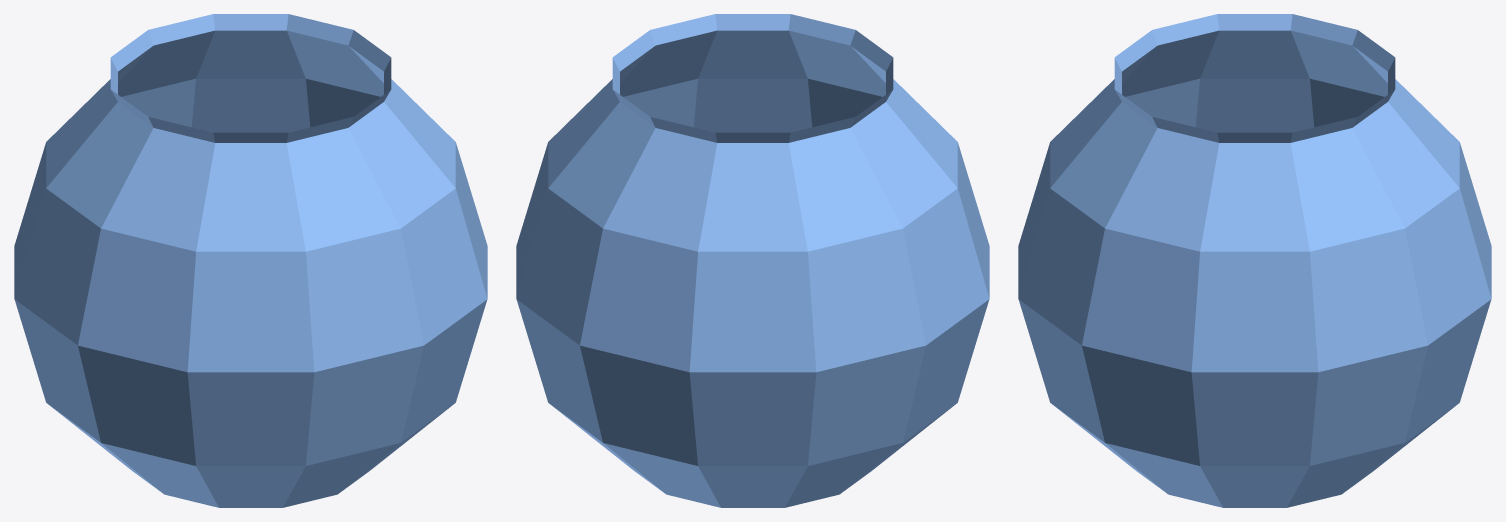
File: BonnieBowl.obj
3 renders of one model, left to right at view 1: azimuth 30°, elevation 25°; view 2: azimuth 150°, elevation 25°; view 3: azimuth 270°, elevation 25°, orthographic.
Visible parts, largest first — view 1: Bowl; view 2: Bowl; view 3: Bowl.
Part boxes in pixels (left/top/right/bottom): Bowl: left=14, top=14, right=487, bottom=507; Bowl: left=516, top=14, right=989, bottom=507; Bowl: left=1018, top=14, right=1491, bottom=507.
Bounding box in the file's own units: 1 × 0.9018 × 1.
1 material, 1 textured.
